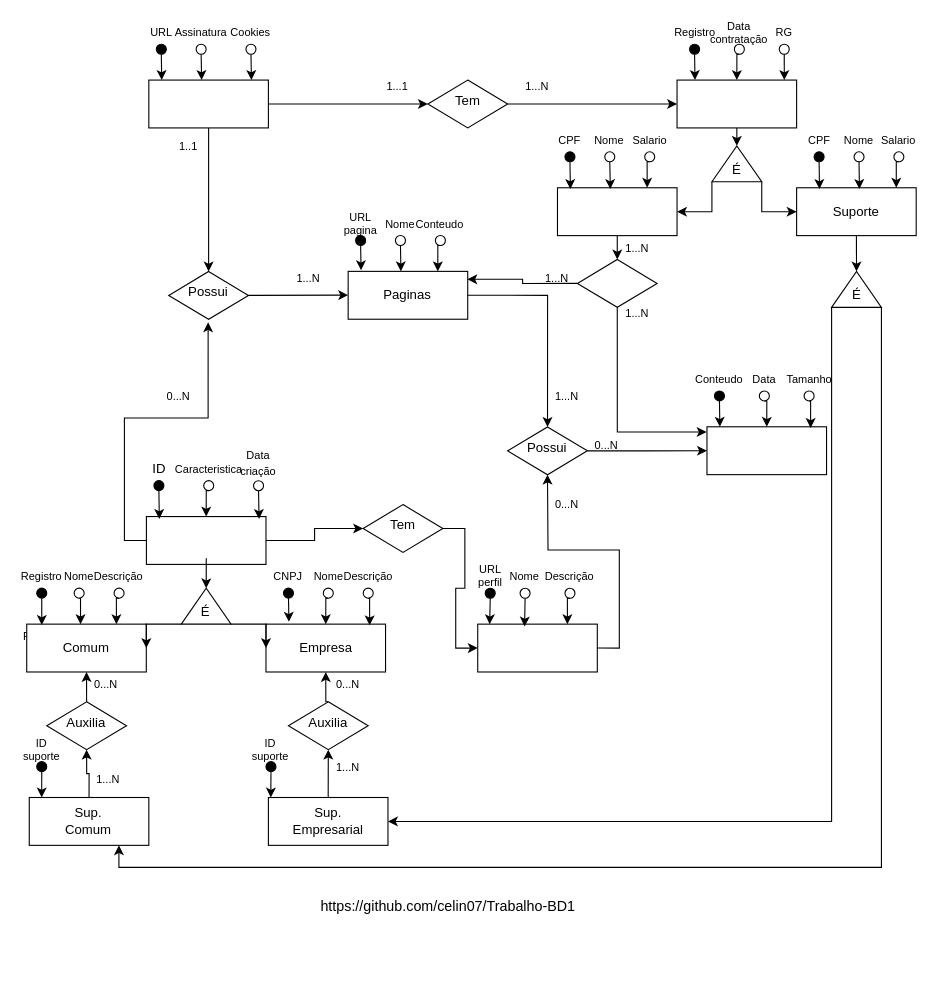
This 939x997 diagram has some shape labels left out. The centre of each missing label's shape, as x and y in pixels:
"Funcionarios" belongs at (x=736, y=103).
"Modera" belongs at (x=616, y=282).
"Moderador" belongs at (x=616, y=211).
"Perfil" belongs at (x=537, y=647).
"Publicações" belongs at (x=766, y=450).
"Rede Social" belongs at (x=208, y=103).
"Usuários" belongs at (x=205, y=539).
